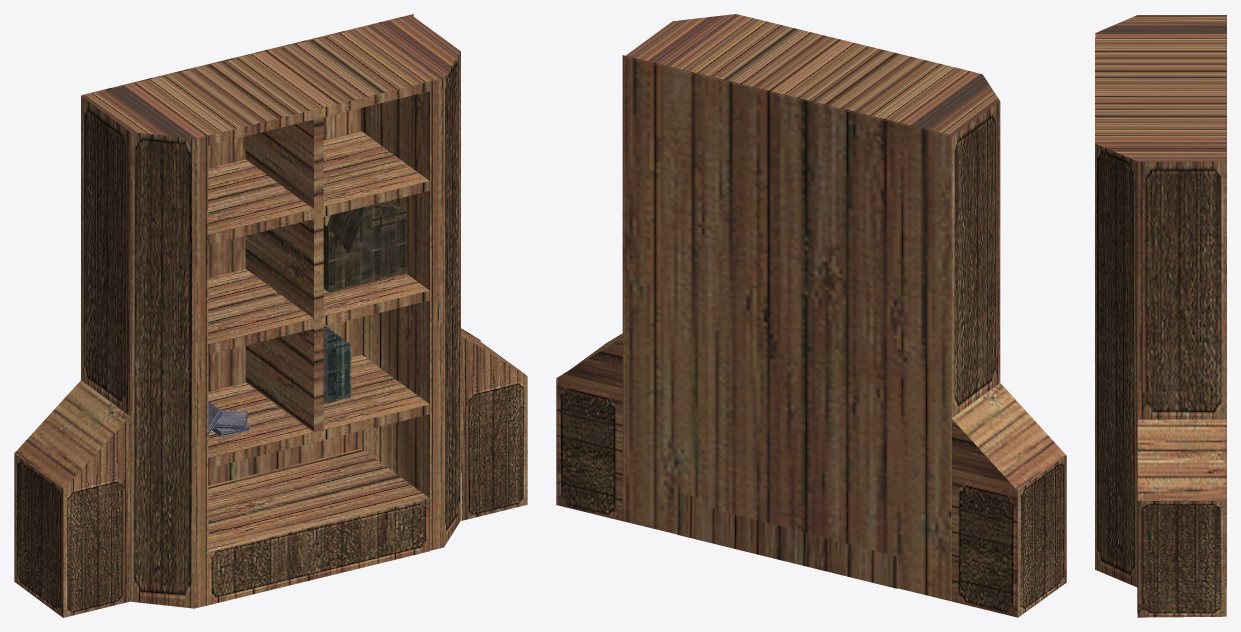
File: frn_all_eleg_bookcase_s02_l1.fbx
3 views of the same model, side by side, from view 1: azimuth 30°, elevation 25°; view 2: azimuth 150°, elevation 25°; view 3: azimuth 270°, elevation 25° (orthographic). The views are drawn at different scales.
Parts seen in each view (by area): view 1: mesh_node; view 2: mesh_node; view 3: mesh_node.
Boxes of the visible parts, x1,y1,x2,y2 form: mesh_node: (14, 14, 527, 617); mesh_node: (556, 14, 1066, 617); mesh_node: (1095, 15, 1226, 617).
Size of the model in its own units: 1.87 by 1.8 by 0.5034.
